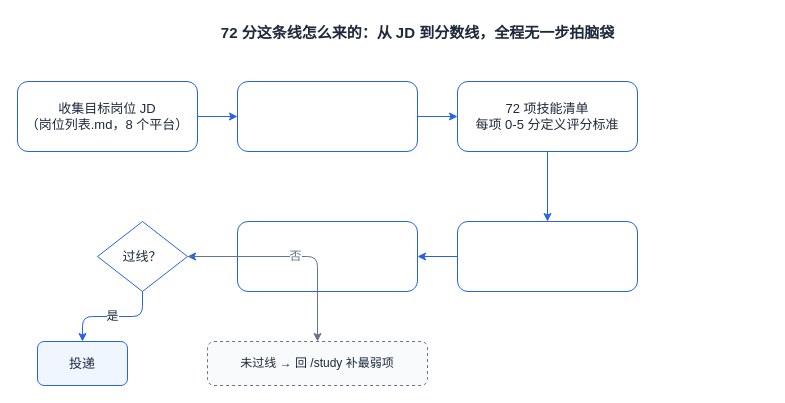
Image size: 785x403. Some labels were removed from this diagram. Here are the shapes that lost their labels. From the top down, the box of each, then its label:
(236, 80, 418, 152): 技能要求归并去重 按五大方向归档
(236, 220, 418, 292): 方向得分换算成百分制 对照岗位分数线
(456, 220, 638, 292): /skill-test 逐项实测打分 （做题，不是自我感觉）
